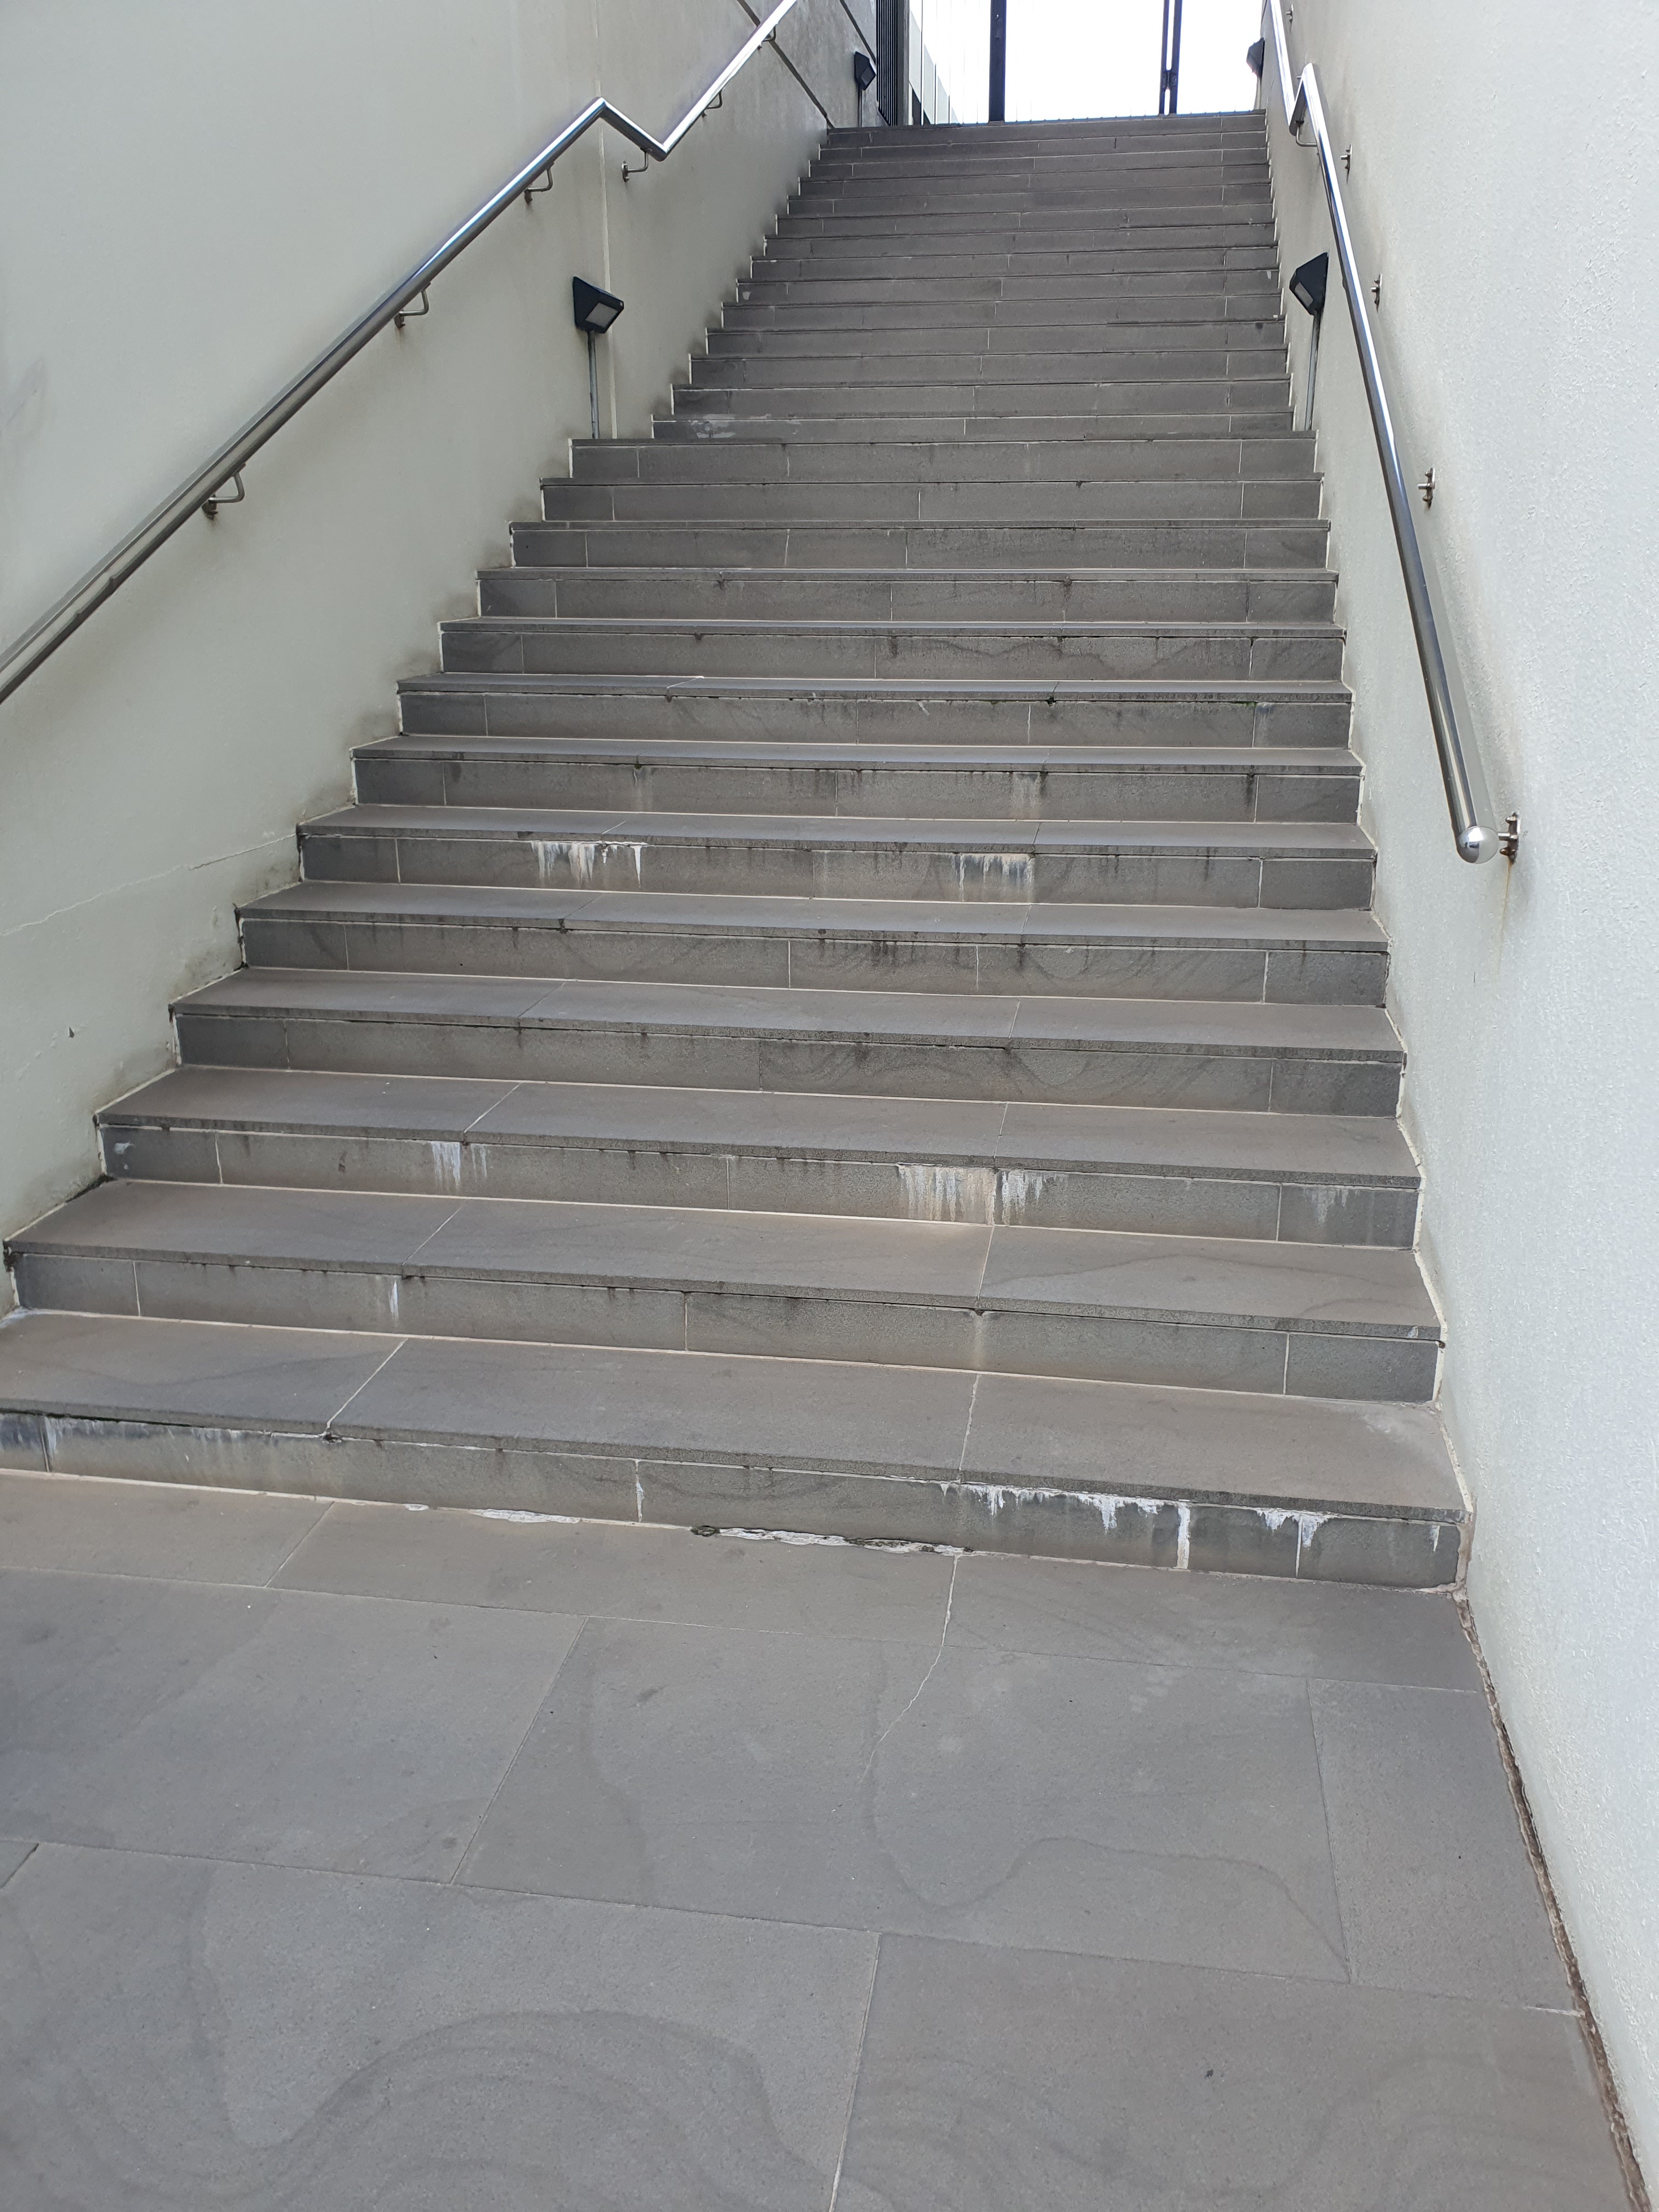upstairs: (260, 963, 1302, 1824)
